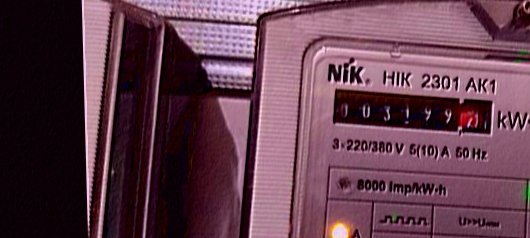0: (334, 98, 347, 117), (357, 98, 368, 117)
1: (399, 98, 408, 117)
3: (378, 101, 388, 121)
6: (461, 113, 472, 130)
9: (439, 105, 450, 123), (419, 101, 429, 120)
screen: (323, 79, 497, 144)
